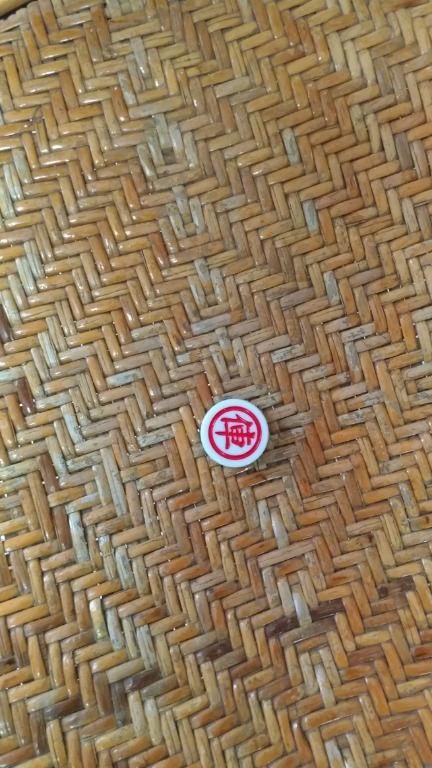r-rook: (195, 390, 282, 477)
